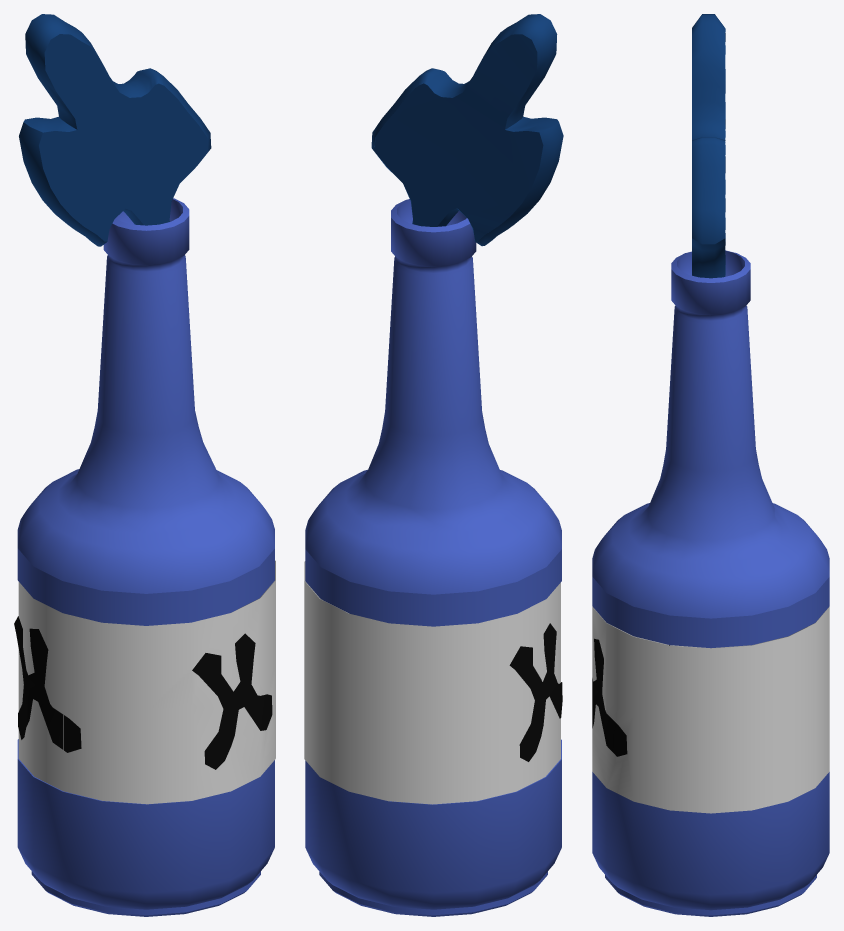
File: 子弹18毒药瓶(1).FBX
The picture shows the model from 3 angles, left to right: view 1: azimuth 30°, elevation 25°; view 2: azimuth 150°, elevation 25°; view 3: azimuth 270°, elevation 25°; orthographic projection. The views are drawn at different scales.
Visible parts, largest first — view 1: Helix001, 对象001, Rectangle001, 对象002; view 2: Helix001, 对象001, Rectangle001, 对象002; view 3: Helix001, 对象001, Rectangle001, 对象002.
Boxes of the visible parts, bbox=[...] form: Helix001: bbox=[17, 198, 274, 916]; 对象001: bbox=[18, 560, 275, 804]; Rectangle001: bbox=[19, 14, 211, 246]; 对象002: bbox=[14, 616, 272, 769]; Helix001: bbox=[305, 199, 561, 916]; 对象001: bbox=[304, 561, 560, 804]; Rectangle001: bbox=[371, 14, 563, 246]; 对象002: bbox=[509, 623, 562, 761]; Helix001: bbox=[592, 250, 829, 916]; 对象001: bbox=[592, 606, 829, 813]; Rectangle001: bbox=[692, 14, 725, 278]; 对象002: bbox=[592, 638, 669, 756].
Size of the model in its own units: 50.34 by 176 by 46.79.
